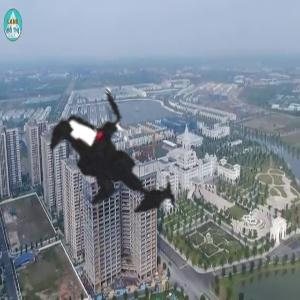drone: (12, 47, 231, 266)
